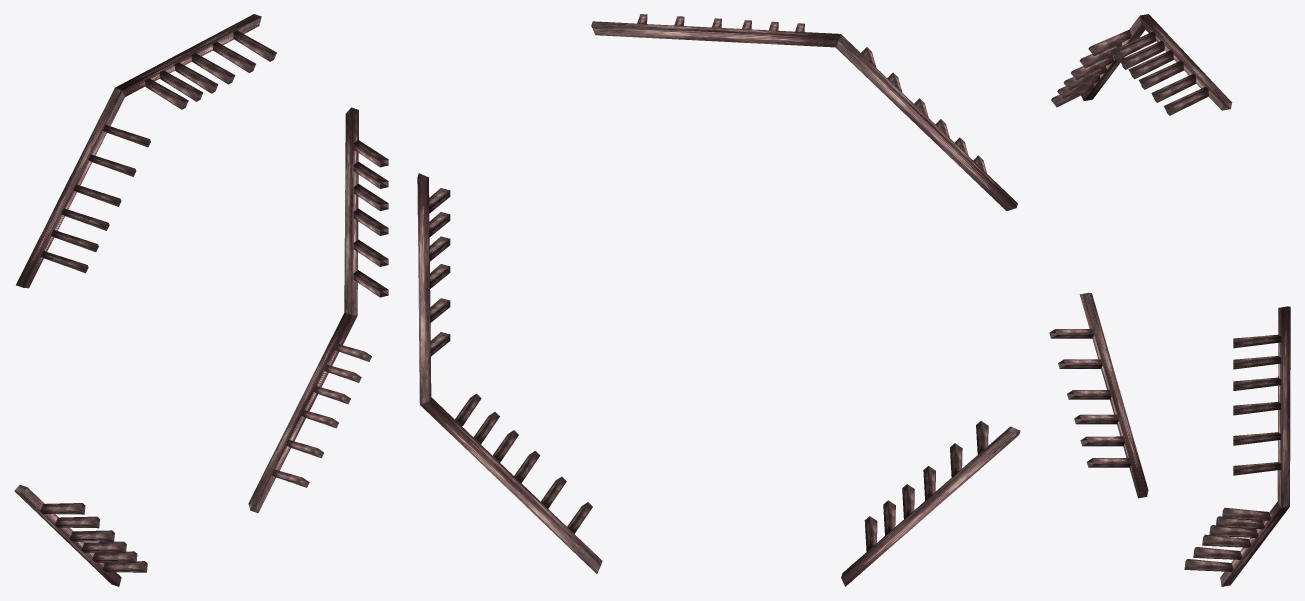
3 renders of one model, left to right at view 1: azimuth 30°, elevation 25°; view 2: azimuth 150°, elevation 25°; view 3: azimuth 270°, elevation 25°, orthographic. The views are drawn at different scales.
Parts seen in each view (by area): view 1: Object61; view 2: Object61; view 3: Object61.
Part boxes in pixels (box(x1,y1,x2,y2)): Object61: box(14, 14, 388, 586); Object61: box(417, 14, 1020, 586); Object61: box(1049, 14, 1290, 586).
Size of the model in its own units: 157 by 167 by 74.95.
